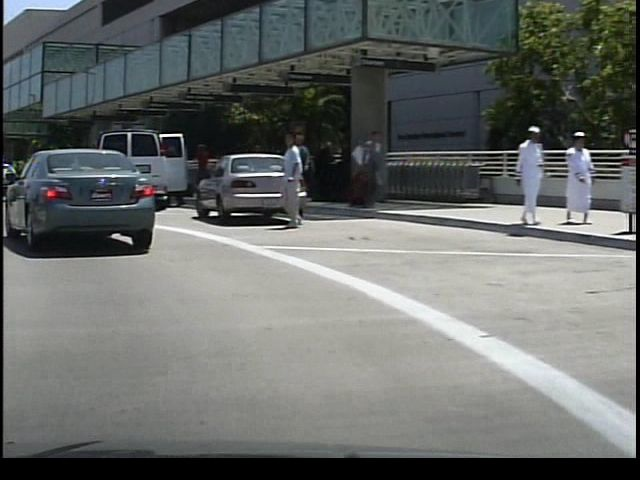person: (504, 123, 543, 231), (269, 128, 307, 233), (553, 128, 590, 224), (350, 127, 382, 212), (187, 139, 210, 204)
